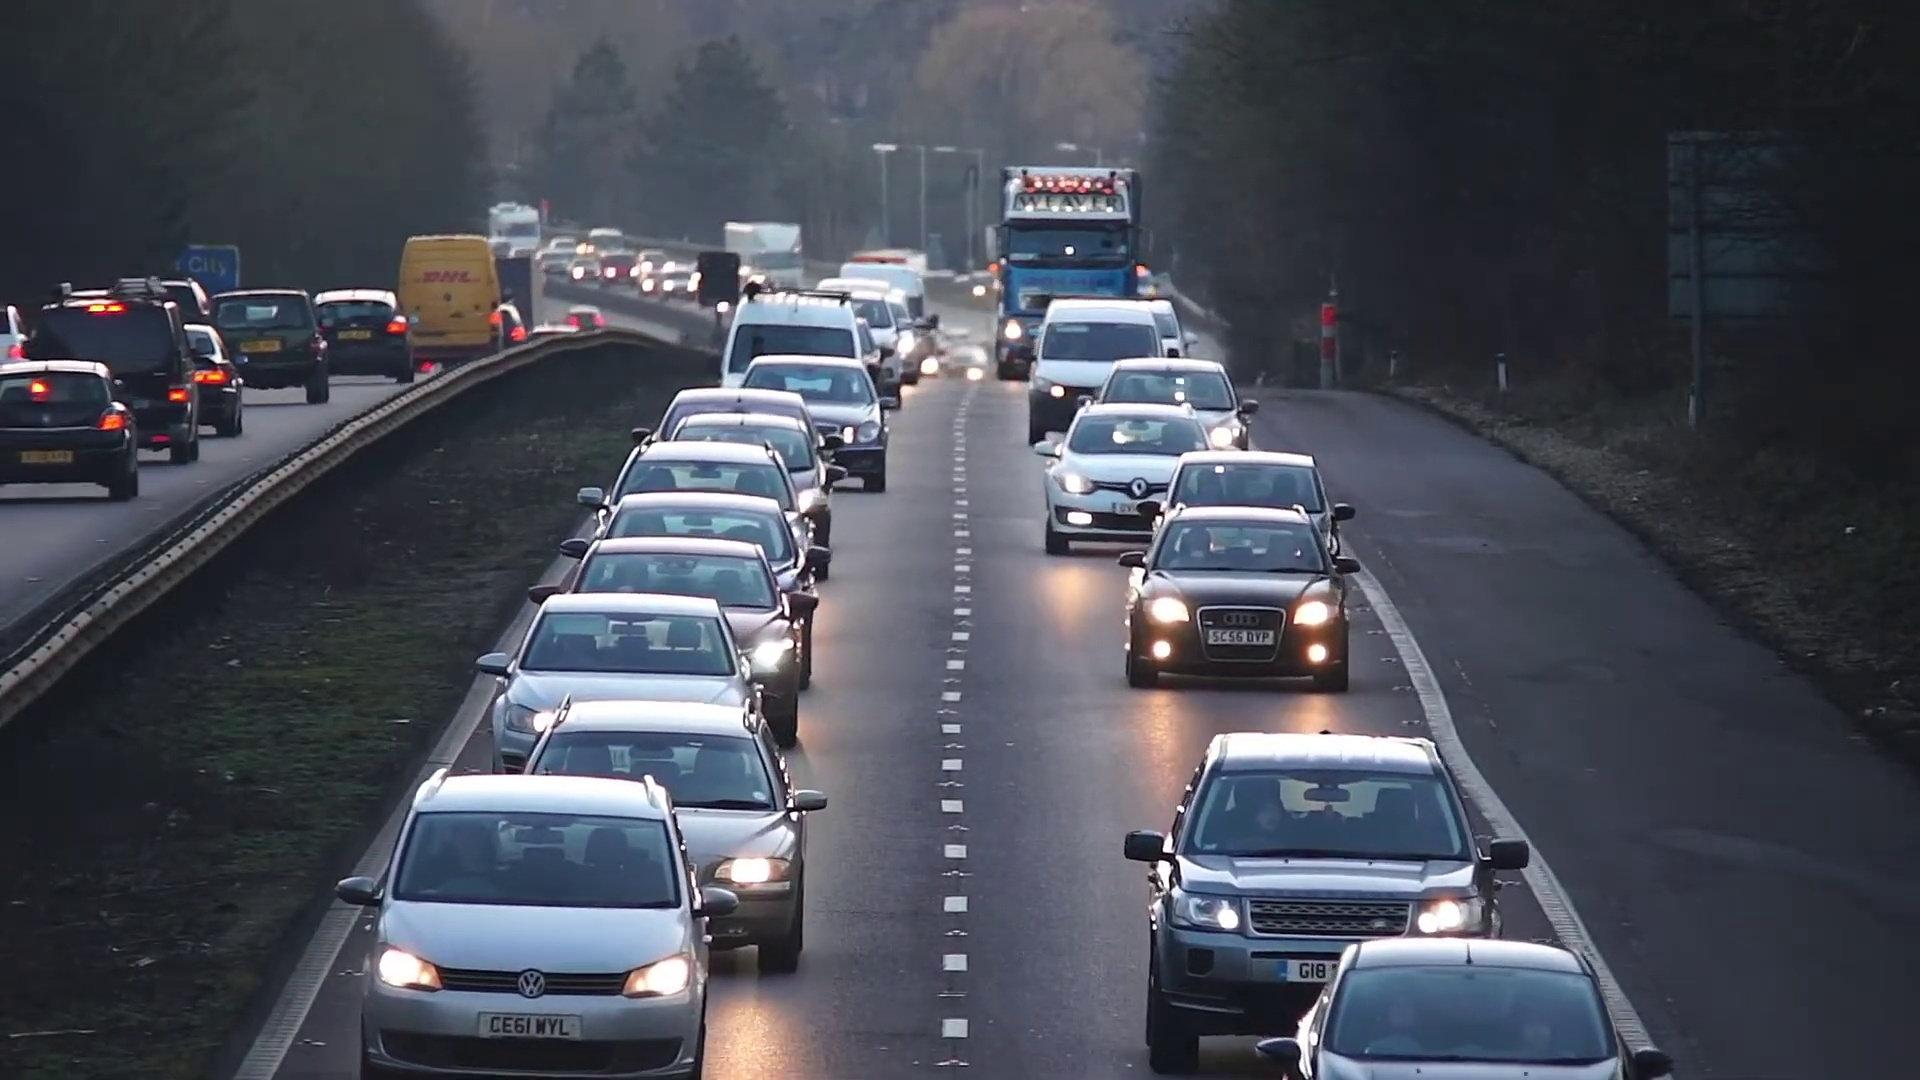license_plate: (474, 1008, 582, 1044)
